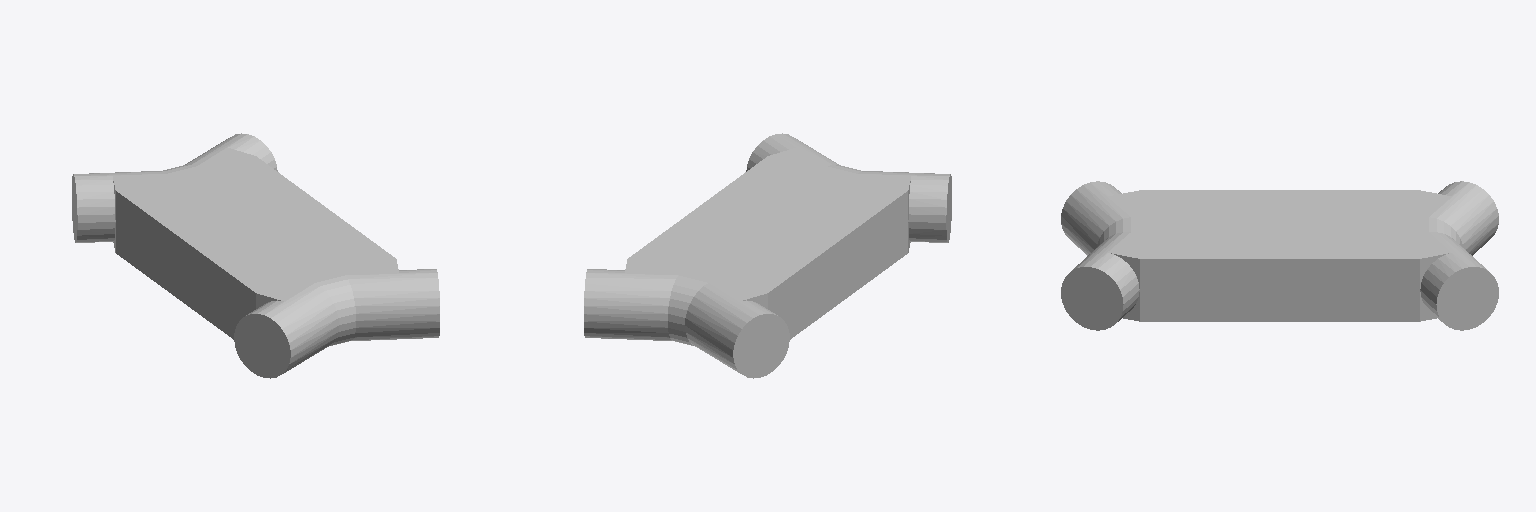
The model's file is soft_body_simplified_25_deg.obj.
The picture shows the model from 3 angles: view 1: azimuth 30°, elevation 25°; view 2: azimuth 150°, elevation 25°; view 3: azimuth 270°, elevation 25°; orthographic projection.
Visible parts, largest first — view 1: Solid1; view 2: Solid1; view 3: Solid1.
Part boxes in pixels (left/top/right/bottom): Solid1: left=72, top=133, right=439, bottom=378; Solid1: left=584, top=133, right=951, bottom=378; Solid1: left=1061, top=181, right=1498, bottom=330.
Bounding box in the file's own units: 214 × 64 × 405.